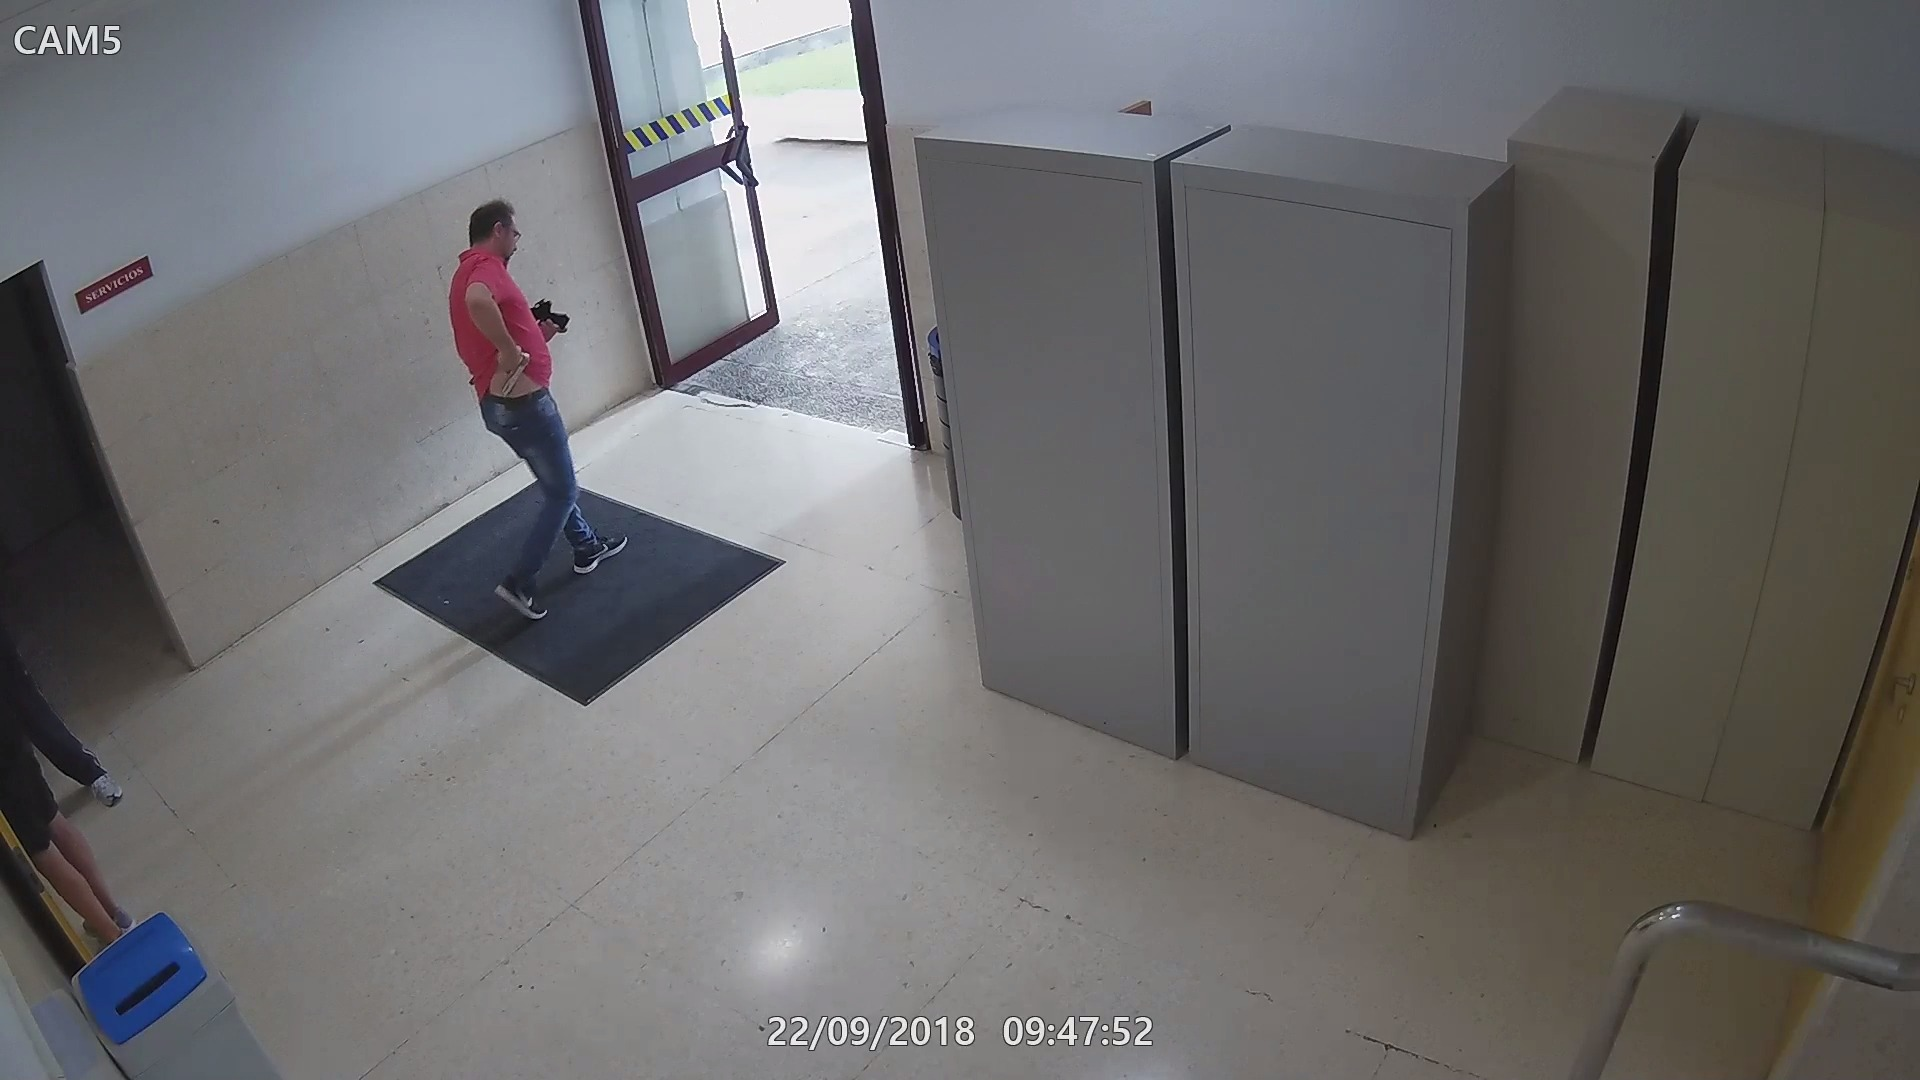Handgun: (497, 343, 535, 404)
Short_rifle: (530, 293, 574, 338)
